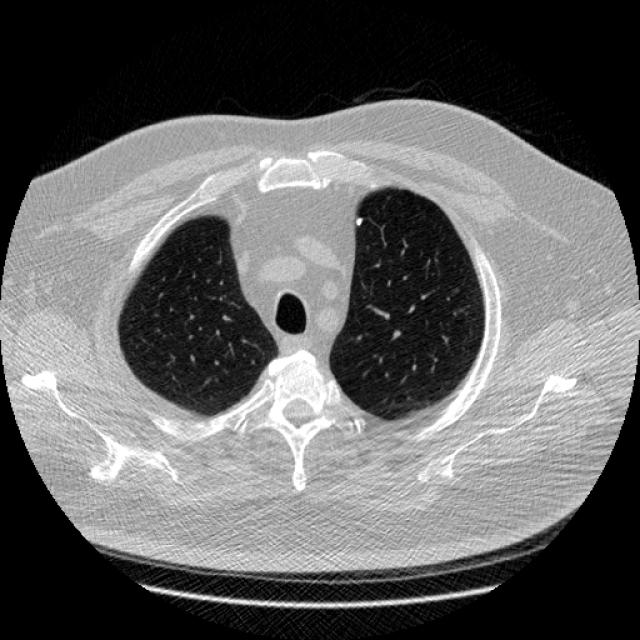nodule: (348, 210, 368, 230)
